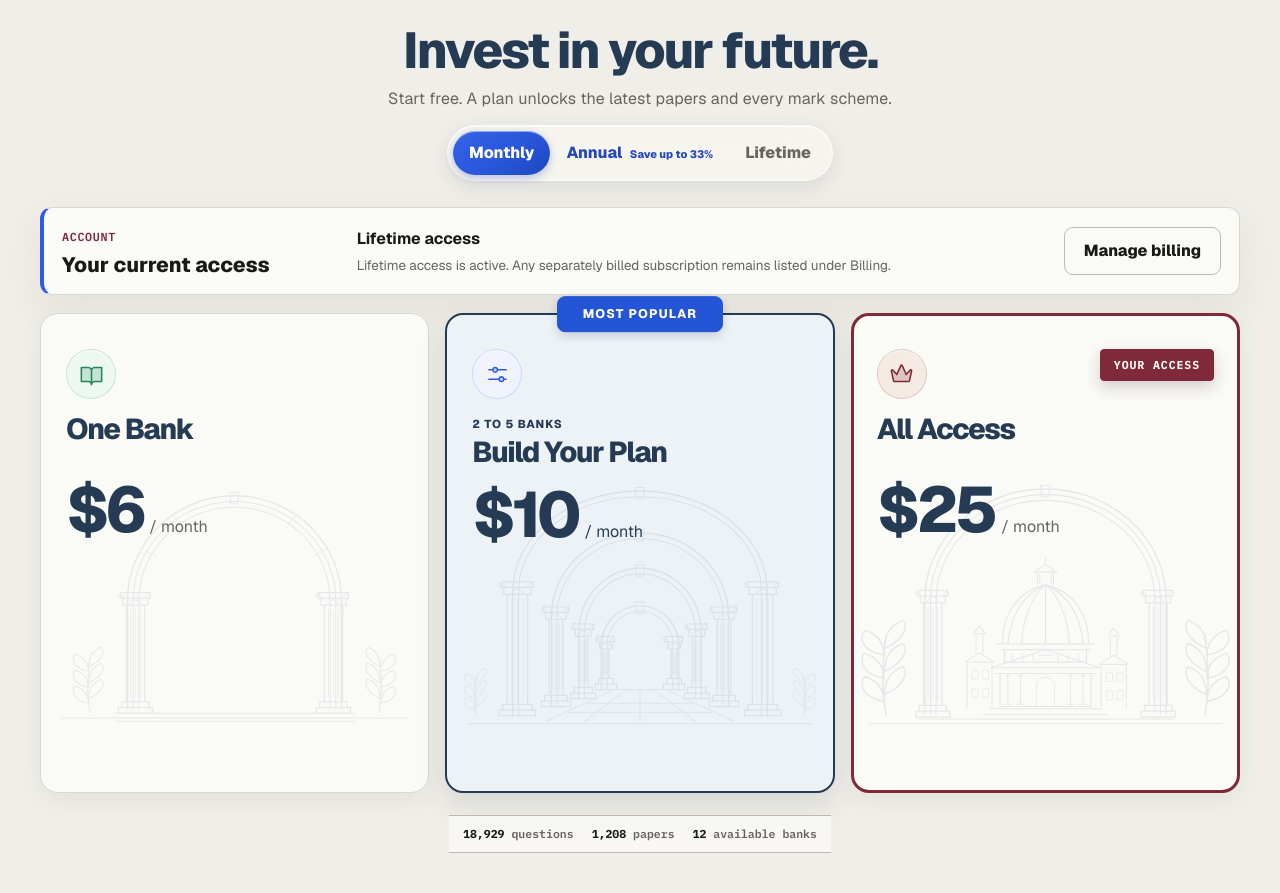
Test: PricingPage › does not offer another lifetime purchase to a lifetime owner
Expected: the text "Lifetime access is active. Any separately billed subscription remains listed under Billing." is shown, [357,256,891,274]
What coordinates should you click on to do the following:
click the button "Lifetime"
I would click on:
 (778, 153)
Its box is [729,131,827,175].
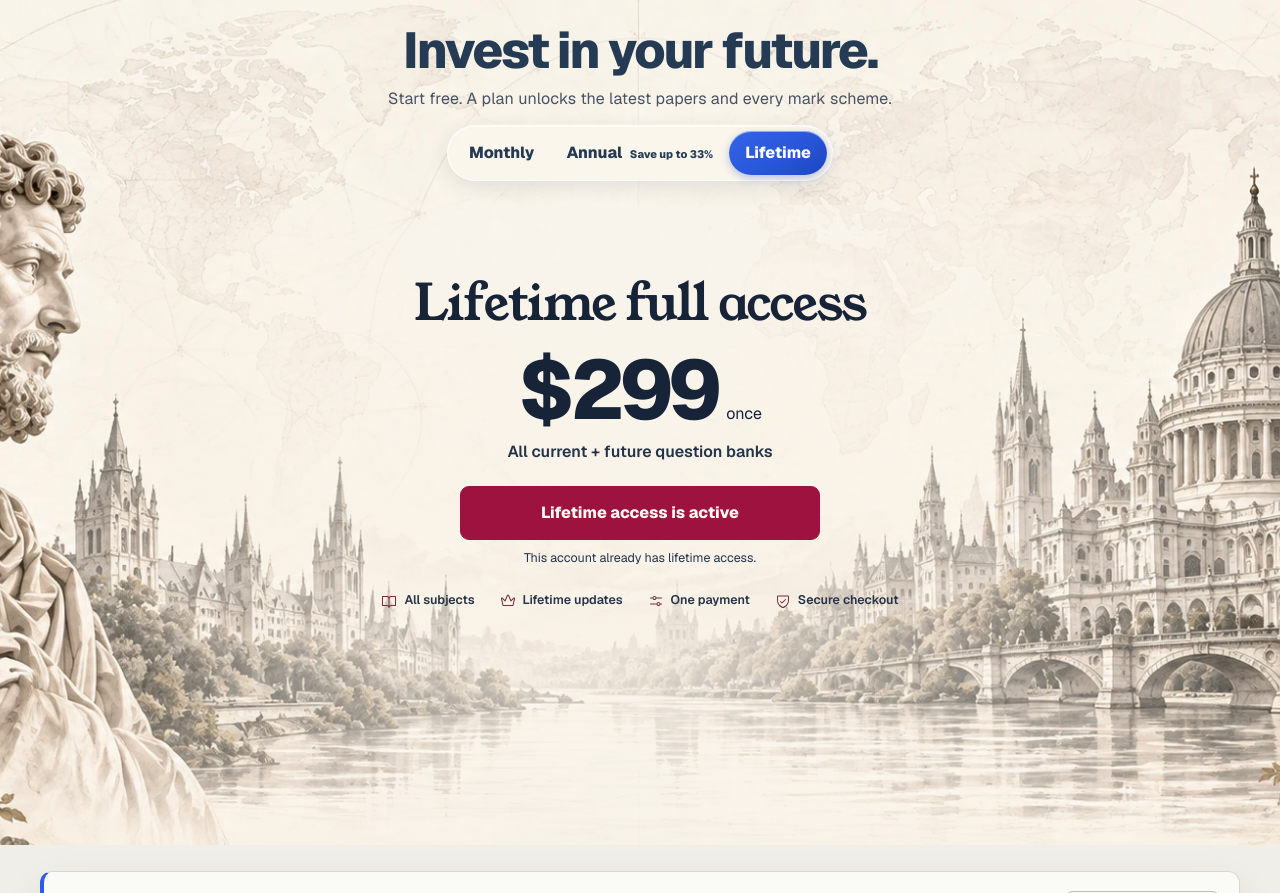
Result: the button "Lifetime access is active" is disabled at [460,486,820,540]
